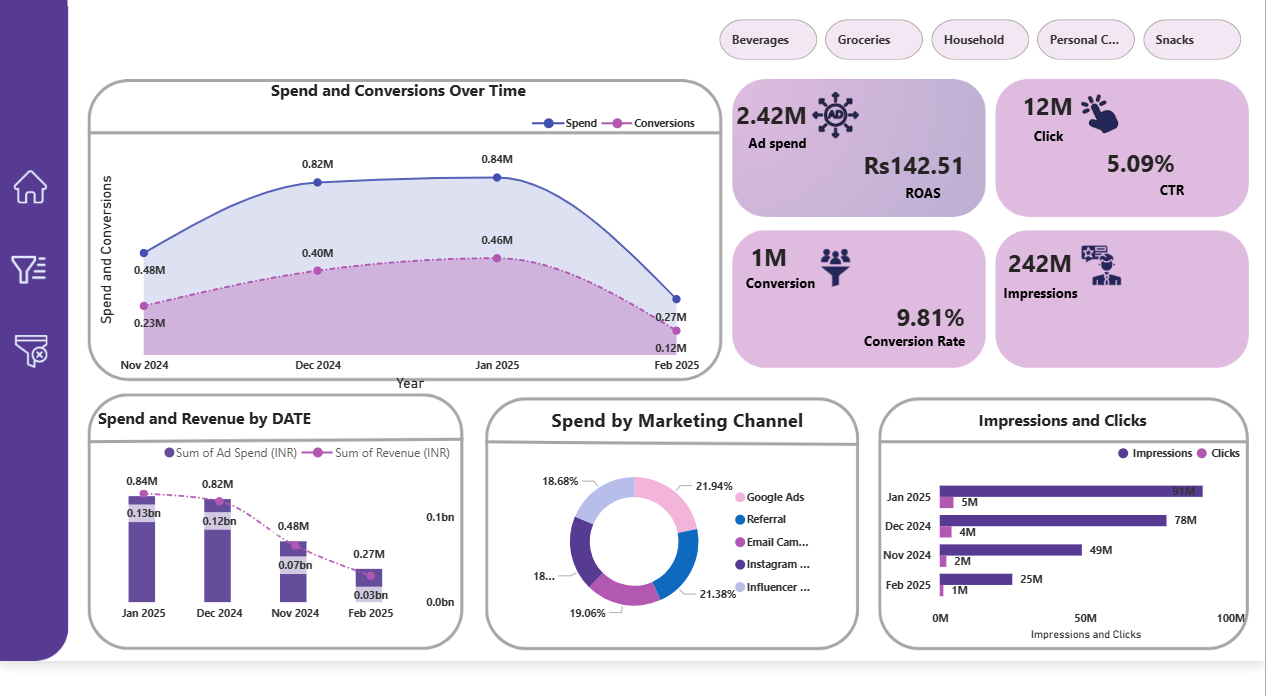

What the dashboard file says about the page in this screenshot:
{"tool":"powerbi","page":{"name":"Page 1","canvas":[1280,720],"ordinal":0},"visuals":[{"type":"textbox","box":[71.7,0,641.7,58.3],"z":0},{"type":"card","fields":{"Values":["marketing.Total Ads_spent"]},"box":[655,93.3,251.7,150],"z":1},{"type":"card","fields":{"Values":["marketing.ROAS"]},"box":[800,163.3,251.7,111.7],"z":2},{"type":"card","fields":{"Values":["marketing.Total_clicks"]},"box":[935,85,251.7,150],"z":3},{"type":"card","fields":{"Values":["marketing.CTR %"]},"box":[1028.3,141.7,251.7,150],"z":4},{"type":"card","fields":{"Values":["marketing.Conversion"]},"box":[653.3,238.3,251.7,150],"z":5},{"type":"card","fields":{"Values":["marketing.Conversion_Rate(%)"]},"box":[816.7,298.3,251.7,150],"z":6},{"type":"card","fields":{"Values":["marketing.Total_impressios"]},"box":[926.7,243.3,251.7,150],"z":7},{"type":"areaChart","title":"Spend and Conversions Over Time","fields":{"Y":["Sum(marketing.Ad Spend (INR))","Sum(marketing.Conversions)"],"Category":["marketing.Campaign Date.Variation.Date Hierarchy.Year","marketing.Campaign Date.Variation.Date Hierarchy.Month"]},"box":[96.7,131.7,616.7,320],"z":8},{"type":"lineStackedColumnComboChart","title":"Spend and Revenue  by DATE","fields":{"Category":["marketing.DATE"],"Y":["Sum(marketing.Ad Spend (INR))"],"Y2":["Sum(marketing.Revenue (INR))"]},"box":[96.7,463.3,370,225],"z":9},{"type":"donutChart","title":"Spend by Marketing Channel","fields":{"Category":["marketing.Marketing Channel"],"Y":["Sum(marketing.Ad Spend (INR))"]},"box":[536.7,463.3,301.7,241.7],"z":10},{"type":"clusteredBarChart","title":"Impressions and Clicks","fields":{"Category":["marketing.DATE"],"Y":["Sum(marketing.Impressions)","Sum(marketing.Clicks)"]},"box":[886.7,465,376.7,238.3],"z":11},{"type":"advancedSlicerVisual","fields":{"Values":["marketing.Category"]},"box":[723.3,66.7,540,51.7],"z":12},{"type":"shape","box":[740,185,95,23.3],"z":13},{"type":"shape","box":[1138.3,231.7,95,23.3],"z":14},{"type":"shape","box":[743.3,325,95,23.3],"z":15},{"type":"shape","box":[865,385,123.3,23.3],"z":16},{"type":"shape","box":[886.7,235,95,23.3],"z":17},{"type":"shape","box":[1018.3,176.7,85,23.3],"z":18},{"type":"shape","box":[991.7,336.7,123.3,23.3],"z":19}]}

Visuals, with their boxes on the page's 1280x720 design canvas (x1, y1, x2, y2). These are canvas units, not pixel positions in the 1267x696 screenshot, which may show the page scaled, cropped or inside an application window:
textbox: Rect(72, 0, 713, 58)
card - marketing.Total Ads_spent: Rect(655, 93, 907, 243)
card - marketing.ROAS: Rect(800, 163, 1052, 275)
card - marketing.Total_clicks: Rect(935, 85, 1187, 235)
card - marketing.CTR %: Rect(1028, 142, 1280, 292)
card - marketing.Conversion: Rect(653, 238, 905, 388)
card - marketing.Conversion_Rate(%): Rect(817, 298, 1068, 448)
card - marketing.Total_impressios: Rect(927, 243, 1178, 393)
"Spend and Conversions Over Time" areaChart: Rect(97, 132, 713, 452)
"Spend and Revenue  by DATE" lineStackedColumnComboChart: Rect(97, 463, 467, 688)
"Spend by Marketing Channel" donutChart: Rect(537, 463, 838, 705)
"Impressions and Clicks" clusteredBarChart: Rect(887, 465, 1263, 703)
advancedSlicerVisual - marketing.Category: Rect(723, 67, 1263, 118)
shape: Rect(740, 185, 835, 208)
shape: Rect(1138, 232, 1233, 255)
shape: Rect(743, 325, 838, 348)
shape: Rect(865, 385, 988, 408)
shape: Rect(887, 235, 982, 258)
shape: Rect(1018, 177, 1103, 200)
shape: Rect(992, 337, 1115, 360)
